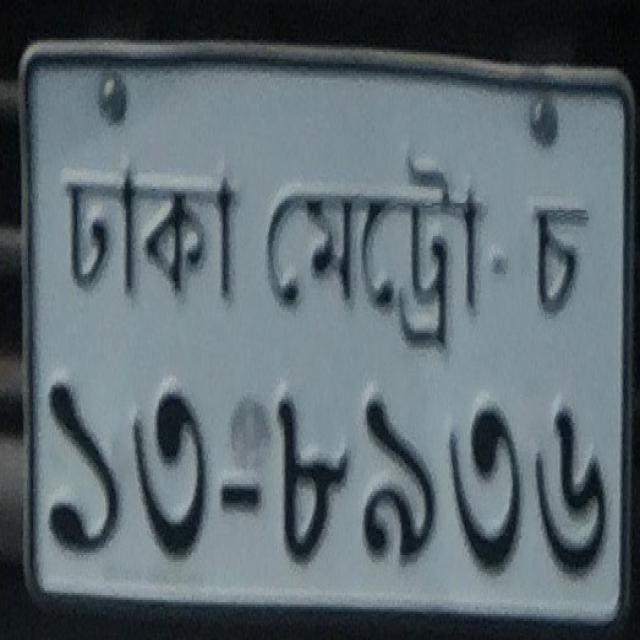numberplate: (17, 35, 634, 627)
